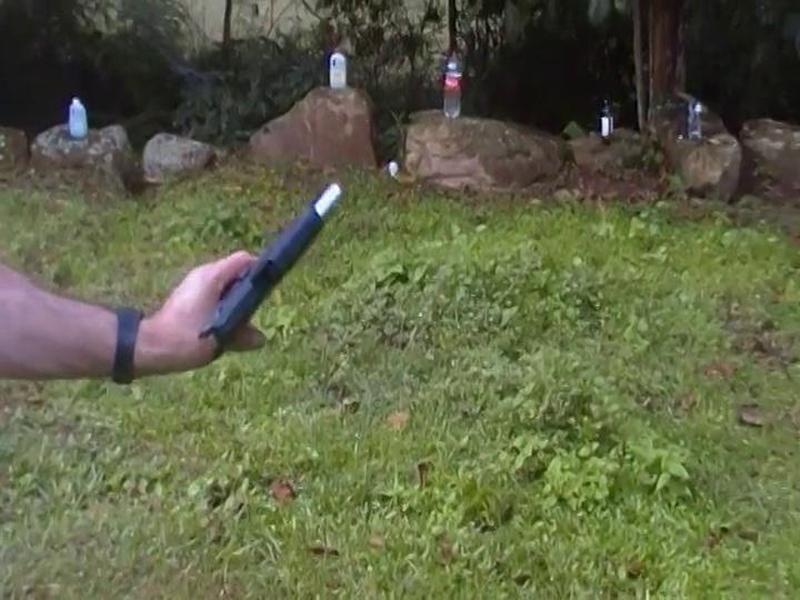Pistola: (191, 178, 360, 349)
